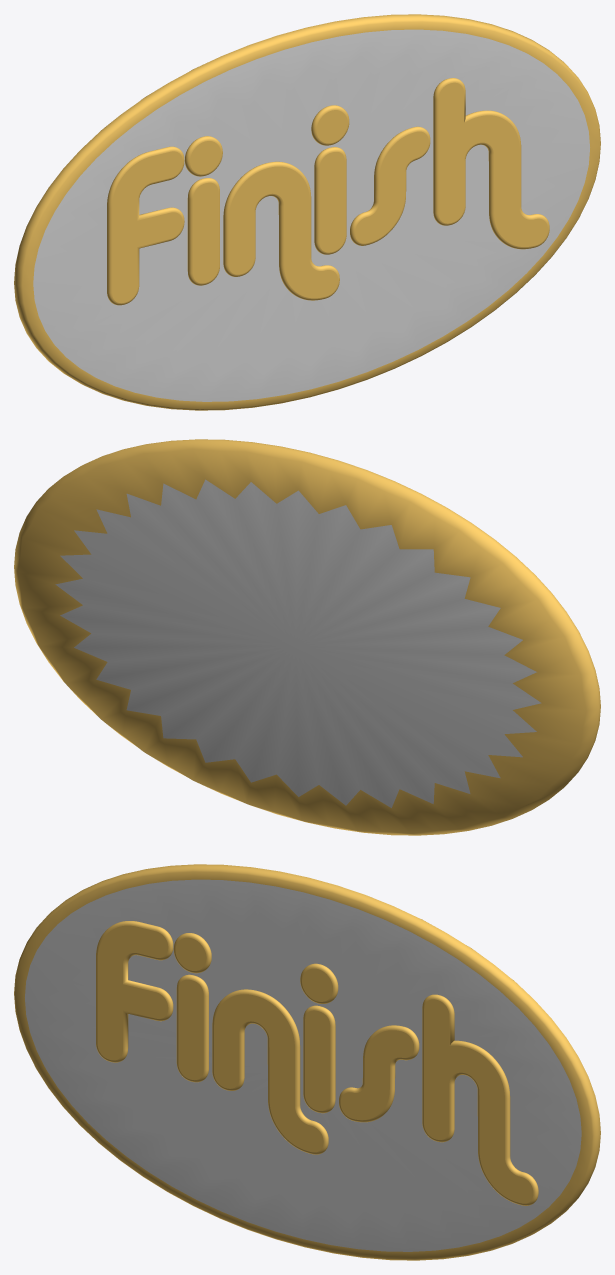
Rendered from finish.glb.
3 views of the same model, one above another, from view 1: azimuth 30°, elevation 25°; view 2: azimuth 150°, elevation 25°; view 3: azimuth 330°, elevation 25° (orthographic).
Parts seen in each view (by area): view 1: Cylinder.001; view 2: Cylinder.001; view 3: Cylinder.001.
Boxes of the visible parts, left/top/right/bottom form: Cylinder.001: left=14, top=14, right=600, bottom=410; Cylinder.001: left=14, top=439, right=600, bottom=835; Cylinder.001: left=14, top=864, right=600, bottom=1260.
Bounding box in the file's own units: 6.76 × 4.07 × 0.3825.
